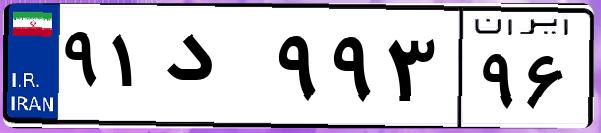1: (110, 28, 158, 98)
3: (385, 28, 445, 110)
6: (525, 38, 570, 115)
9: (270, 28, 330, 110), (330, 28, 385, 110), (57, 26, 110, 100), (475, 38, 525, 113)
د: (158, 20, 270, 120)
